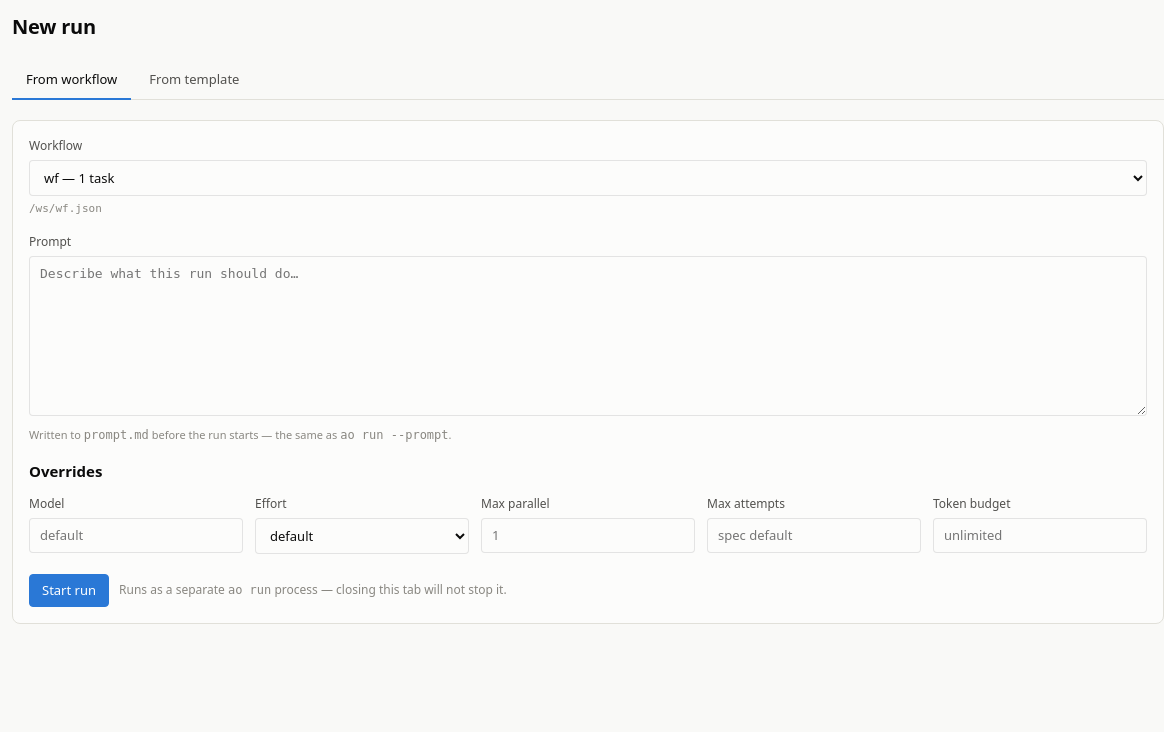
it: NewRun launch flow (classic) › a request rejected before spawning stays an inline form error (no panel)
The image size is (1164, 732).
Type "keep me" into the text box labelled "Prompt".
click(588, 336); type("keep me")  # box [29,256,1147,416]
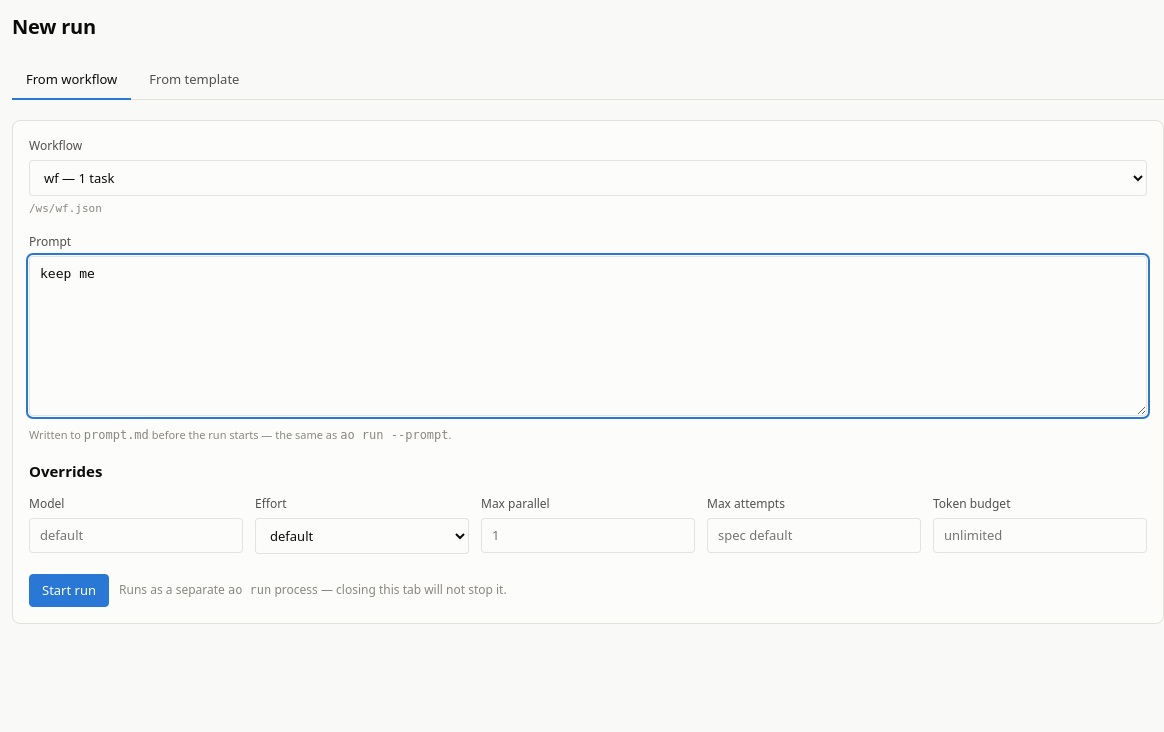
Click the button "Start run".
click(69, 590)  # box [29,574,109,607]
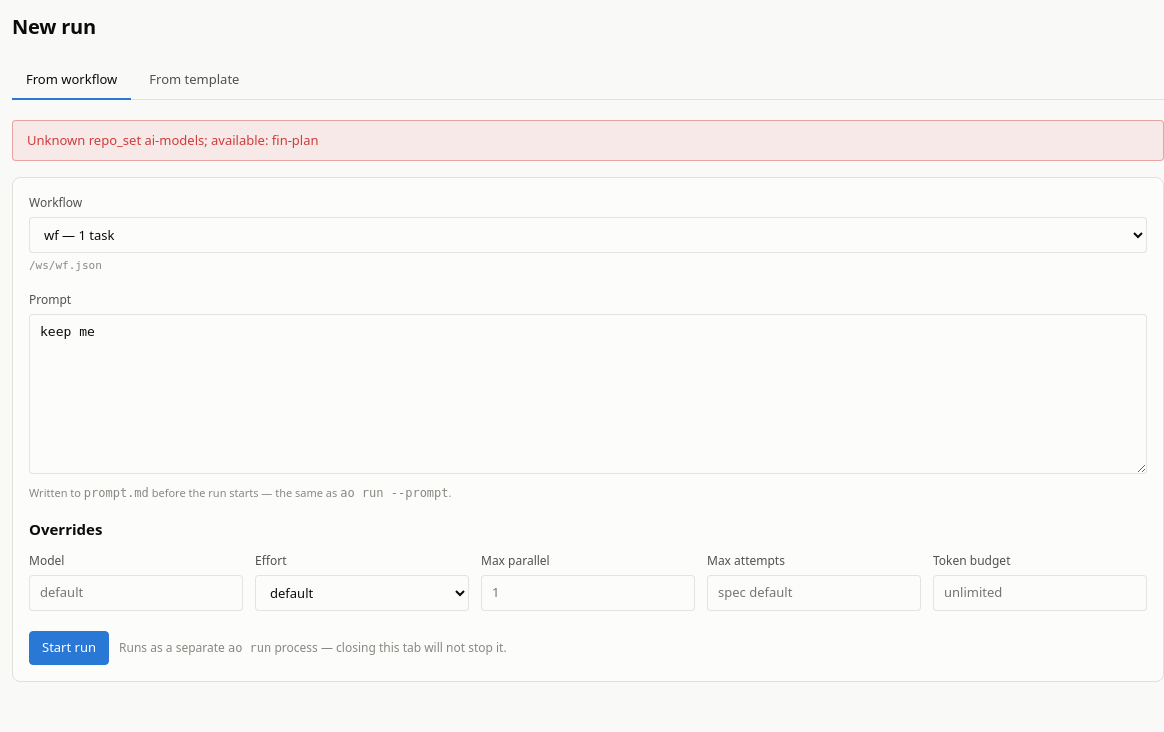
Expected: the message shows "available: fin-plan", [27,130,318,148]
